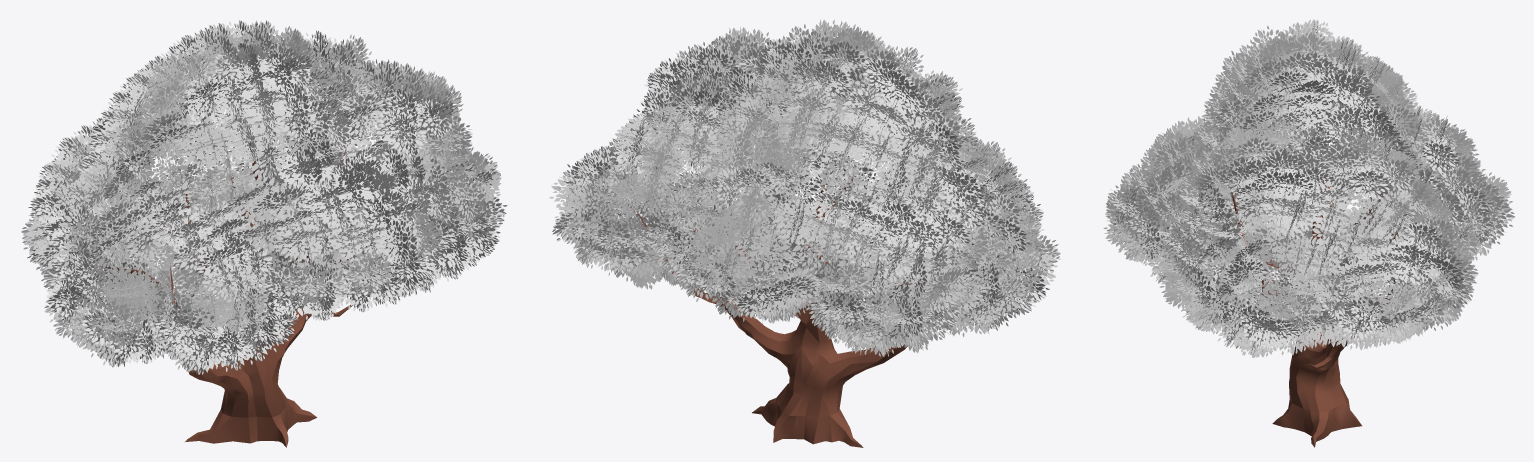
Rendered from FINAL_Tree_1.fbx.
The picture shows the model from 3 angles, left to right: view 1: azimuth 30°, elevation 25°; view 2: azimuth 150°, elevation 25°; view 3: azimuth 270°, elevation 25°; orthographic projection. The views are drawn at different scales.
Visible parts, largest first — view 1: Tree_free_02.003; view 2: Tree_free_02.003; view 3: Tree_free_02.003.
Part boxes in pixels (x1,y1,x2,y2): Tree_free_02.003: (21,20,507,447); Tree_free_02.003: (549,19,1060,447); Tree_free_02.003: (1103,19,1514,447).
Bounding box in the file's own units: 1213 × 1050 × 1066.
